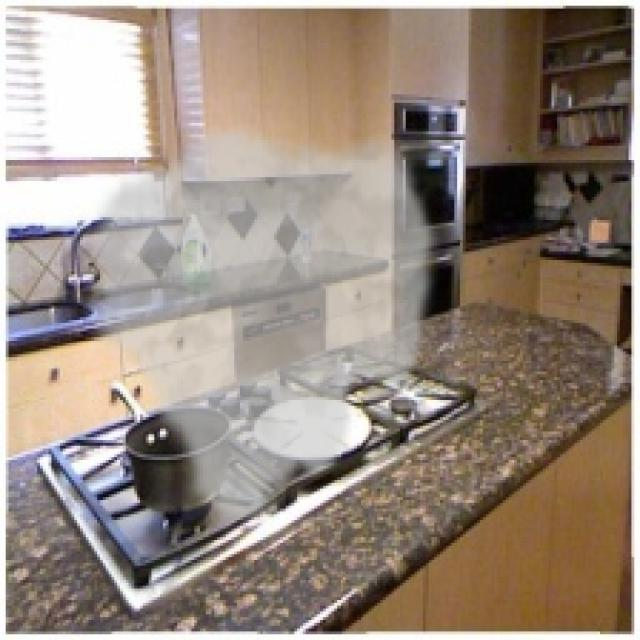smoke: (77, 120, 443, 534)
